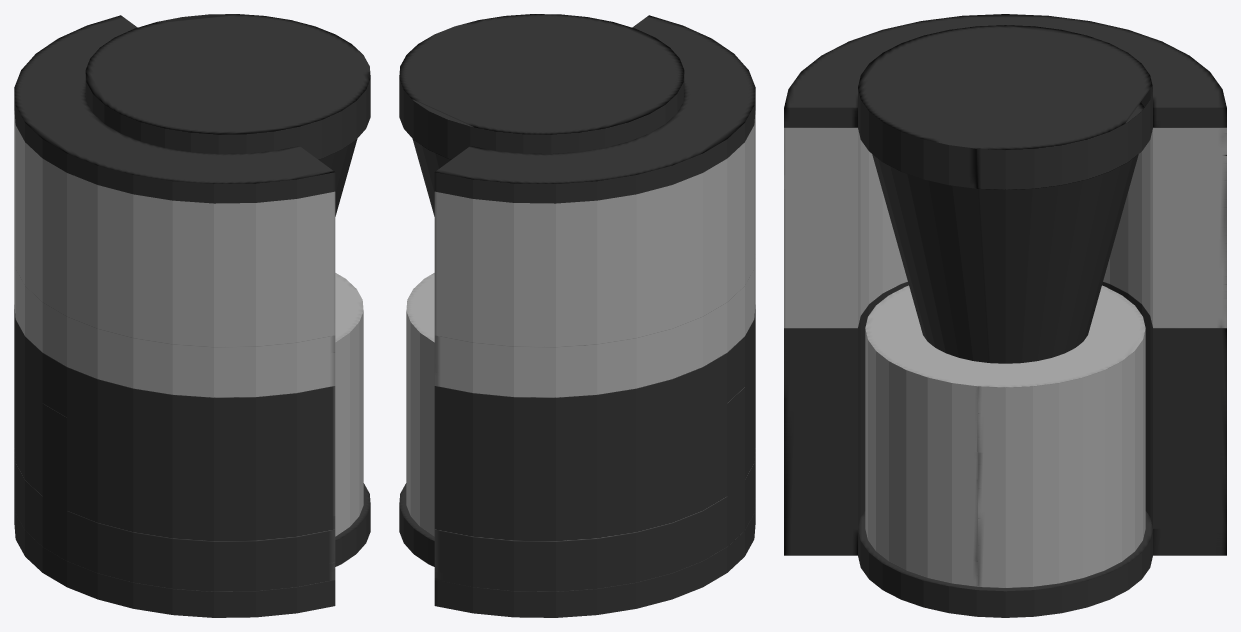
File: coffeeMachine.obj
The picture shows the model from 3 angles, left to right: view 1: azimuth 30°, elevation 25°; view 2: azimuth 150°, elevation 25°; view 3: azimuth 270°, elevation 25°; orthographic projection. The views are drawn at different scales.
Visible parts, largest first — view 1: Cylinder; view 2: Cylinder; view 3: Cylinder.
Part boxes in pixels (x1=…): Cylinder: x1=14, y1=14, x2=370, y2=617; Cylinder: x1=399, y1=14, x2=755, y2=617; Cylinder: x1=784, y1=14, x2=1226, y2=617.
Size of the model in its own units: 2.5 by 3.5 by 3.
